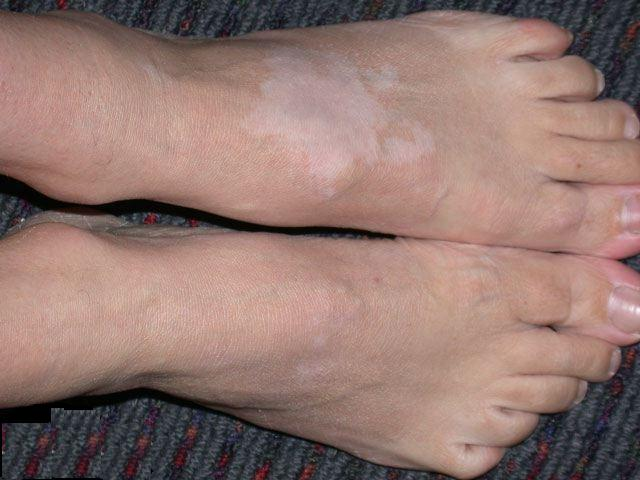vitiligo: (222, 49, 475, 212)
